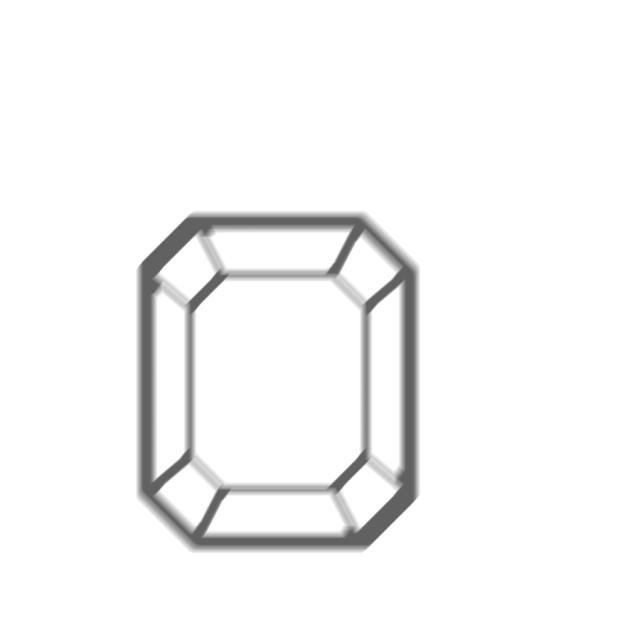emerald: (128, 204, 428, 560)
